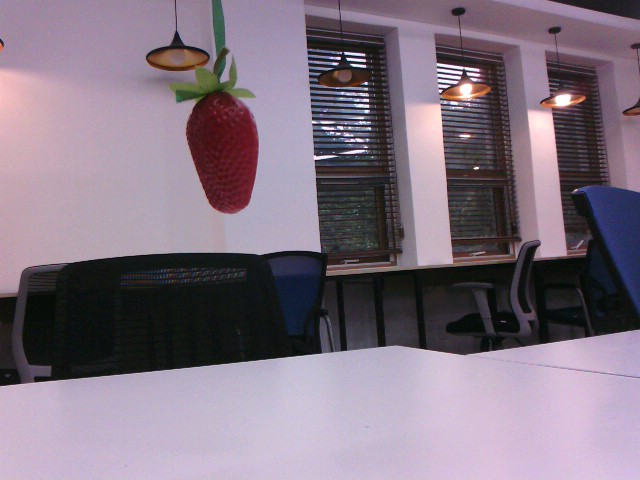strawberry: (176, 82, 263, 217)
